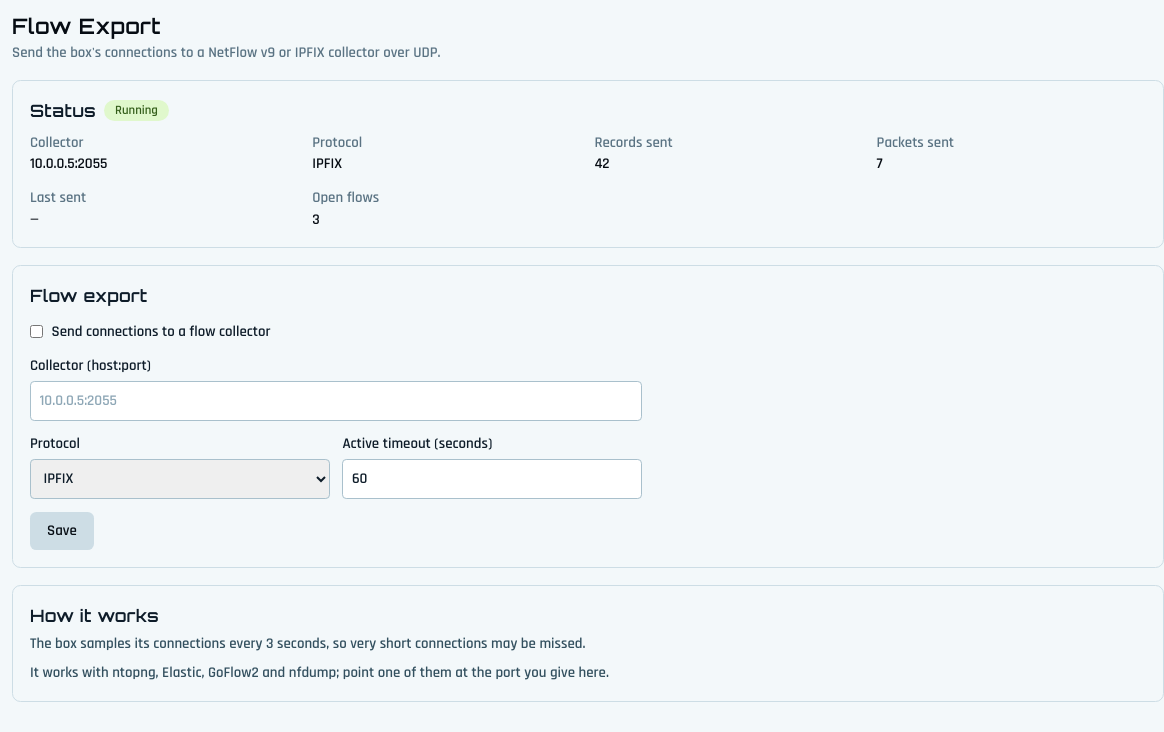
Scenario: Flow export page › a validation error from the server shows under its field
Type "collector.internal:4739" into the field labelled "Collector (host:port)". click: (336, 400)
box: 30,380 -> 642,420
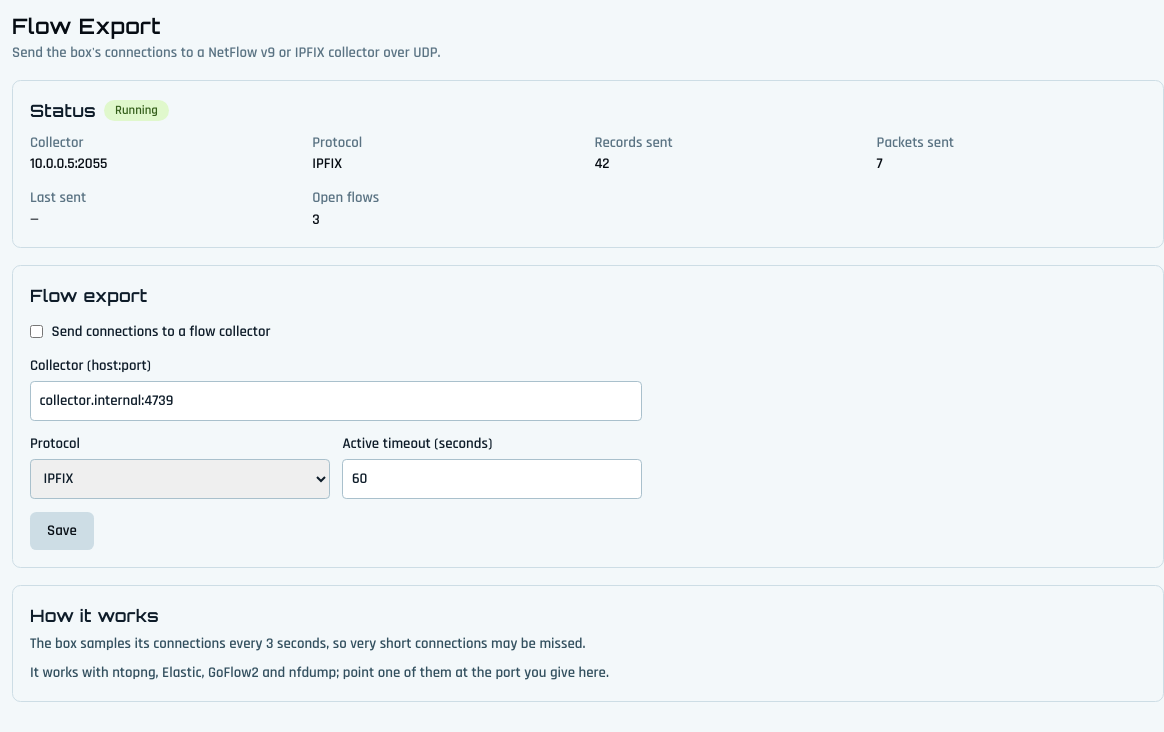
Click the button "Save". click: click(62, 531)
box: 30,512 -> 94,550
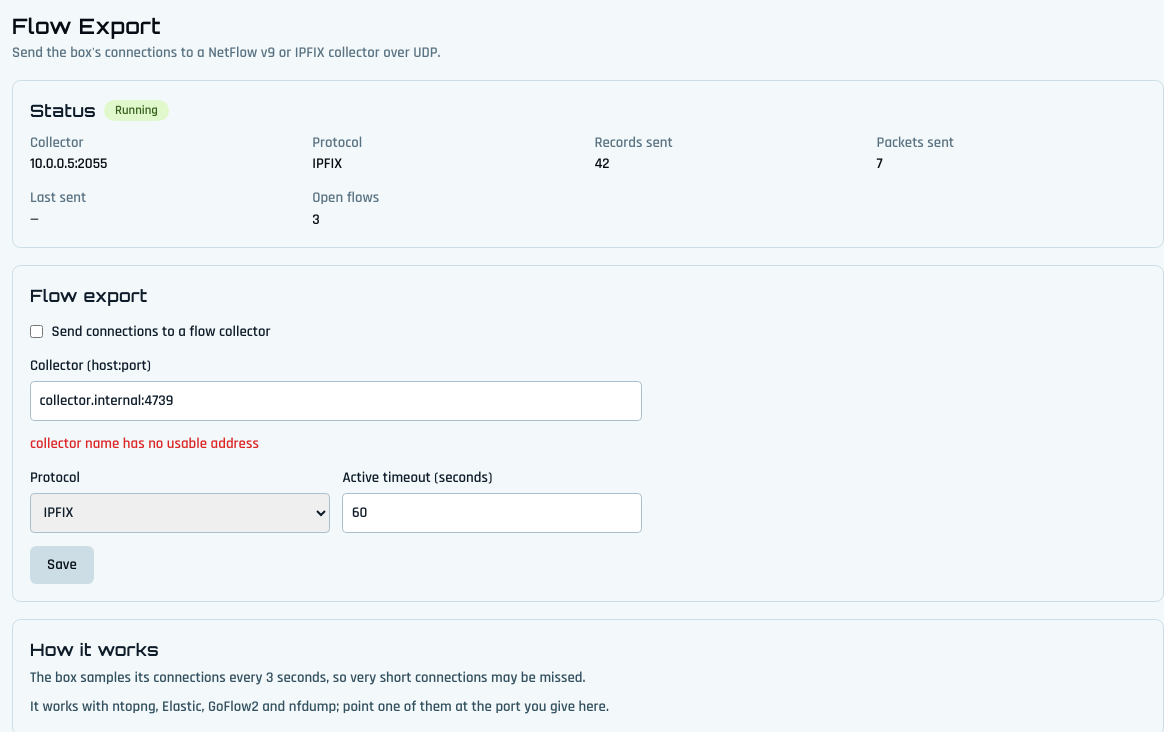
Check: the message reads "collector name has no usable address", box 30,434 -> 259,453
